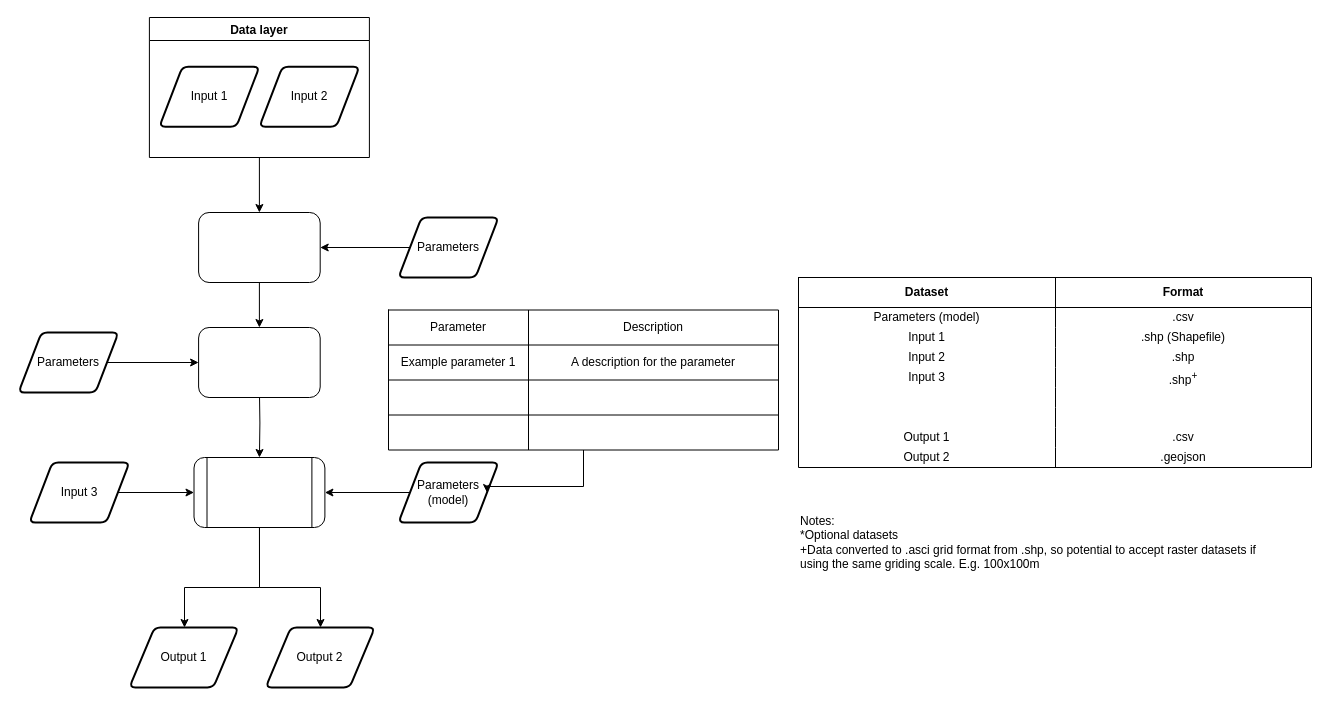
Some shapes in this 1331 by 706 pixel diagram are drawn without their labels. The shapes that lost their labels are listed below. From the top down, each one's centre as x and y in pixels, then its label:
At (x=259, y=247): "A process E.g. merge".
At (x=259, y=362): "Format convertor".
At (x=259, y=492): "Model (already developed)".
